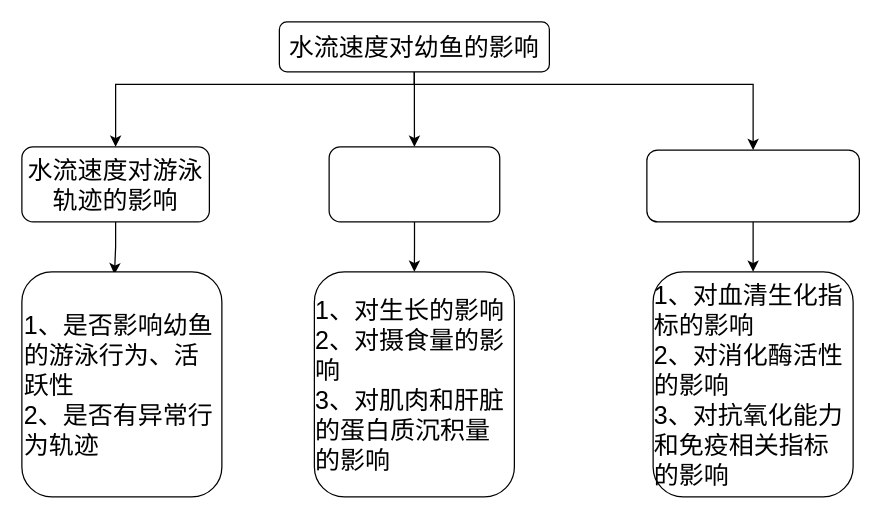
This 881x519 diagram has some shape labels left out. The centre of each missing label's shape, as x and y in pixels:
水流速度对幼鱼生理生化的影响: the point at 752,185
水流速度对幼鱼生长影响: the point at 414,184
